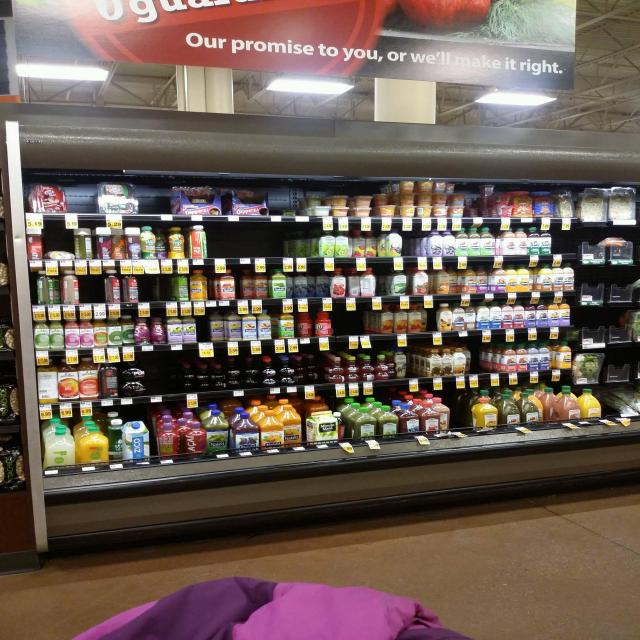void: (212, 226, 278, 258), (585, 313, 621, 339), (69, 185, 97, 212), (143, 187, 168, 214), (268, 191, 296, 215), (146, 354, 164, 391), (550, 230, 577, 253), (80, 278, 104, 302), (580, 273, 602, 298), (137, 275, 158, 300), (608, 275, 626, 300), (608, 355, 624, 376), (450, 394, 459, 426), (603, 396, 615, 413)
